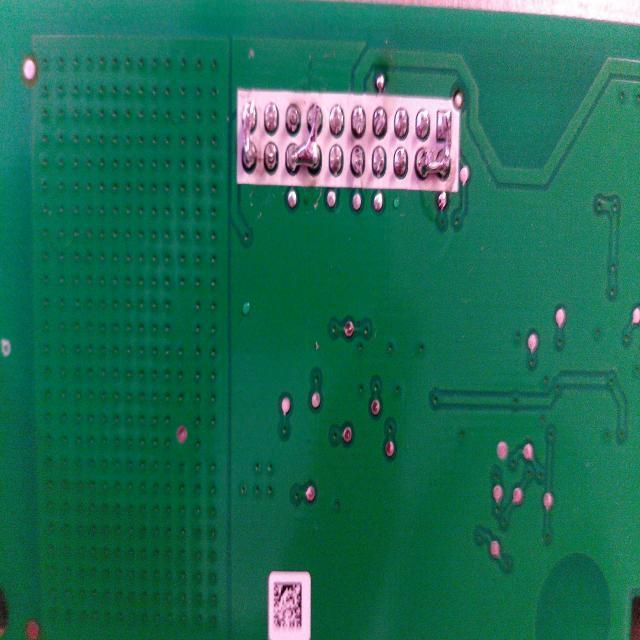Soldering shorted: (284, 98, 325, 176), (417, 100, 454, 186), (240, 100, 258, 174)
